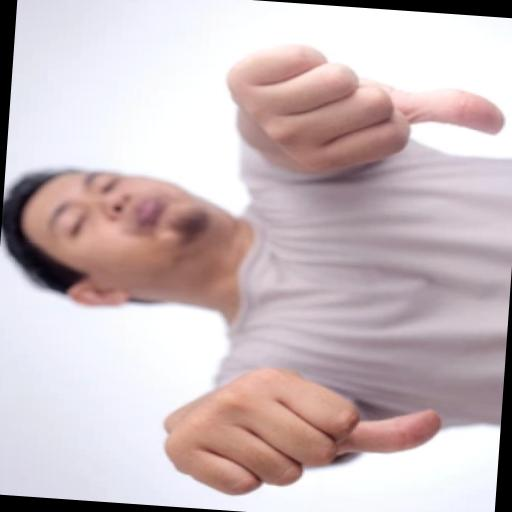Thumbs_Down: (137, 343, 478, 512), (192, 24, 512, 199)
